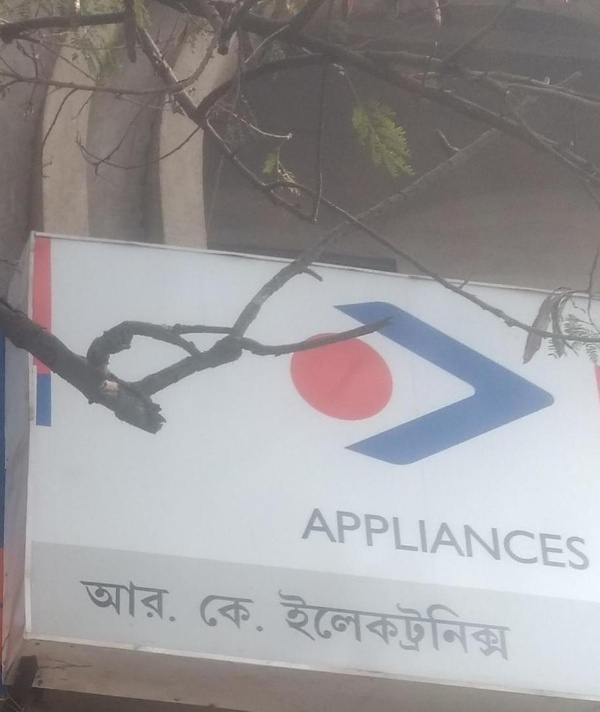text: (305, 508, 320, 575), (321, 508, 336, 575), (337, 508, 352, 575), (353, 508, 368, 575), (369, 508, 384, 575), (385, 508, 400, 575), (401, 508, 416, 575), (417, 508, 432, 575), (433, 508, 448, 575), (449, 508, 464, 575), (465, 508, 480, 575), (481, 508, 496, 575), (497, 508, 512, 575), (513, 508, 528, 575), (529, 508, 544, 575), (545, 508, 560, 575), (561, 508, 576, 575), (577, 508, 589, 575), (97, 580, 112, 624), (113, 580, 128, 624), (129, 580, 144, 624), (145, 580, 160, 624), (161, 580, 176, 624), (82, 580, 96, 624), (297, 508, 304, 575)
